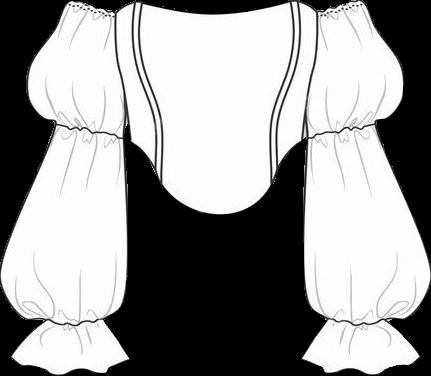Bodice: (115, 1, 317, 212)
Neckline: (113, 0, 320, 16)
Sleeve: (0, 1, 128, 374), (302, 0, 429, 373)
Sleeveline: (69, 0, 118, 37), (315, 0, 364, 37), (305, 119, 379, 139), (53, 122, 126, 136), (43, 312, 106, 325), (327, 316, 388, 325)
Waistline: (130, 134, 307, 215)
